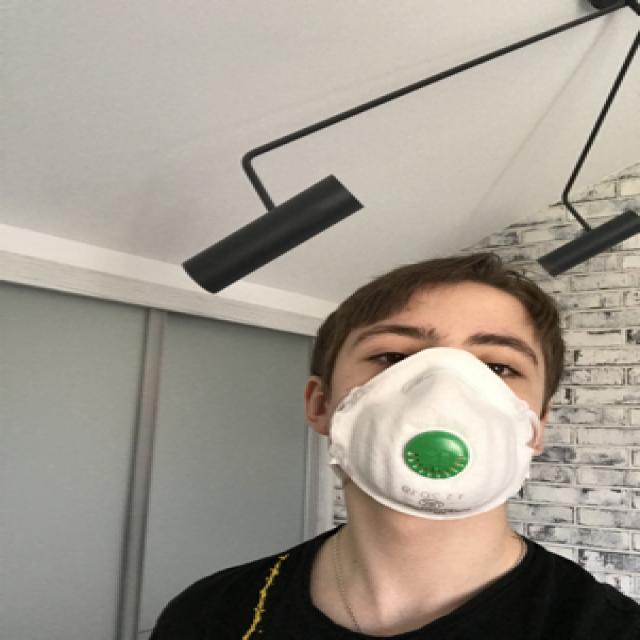with_mask: (330, 304, 544, 517)
